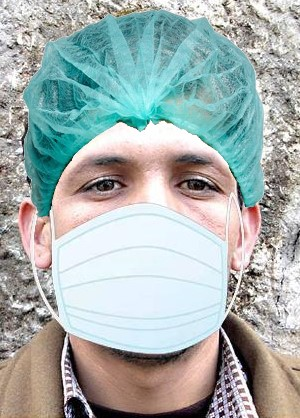with_mask_and_cap: (20, 12, 260, 356)
